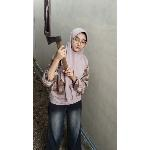Kapak: (45, 33, 71, 73)
